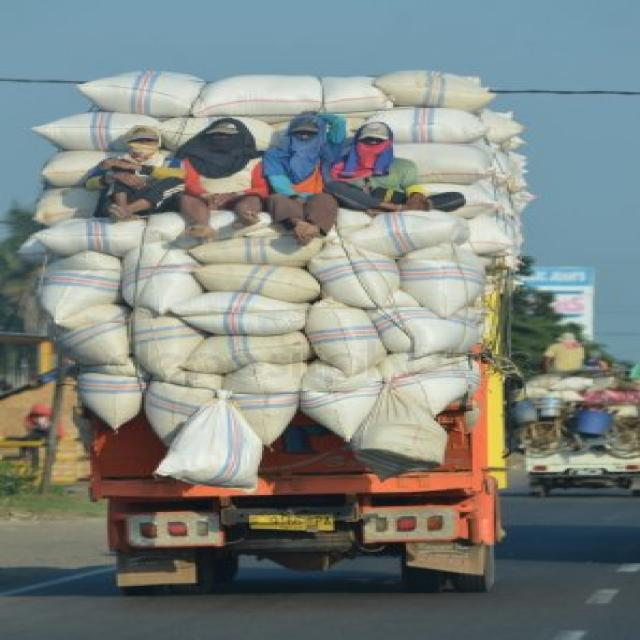overloaded_truck: (19, 3, 611, 598)
